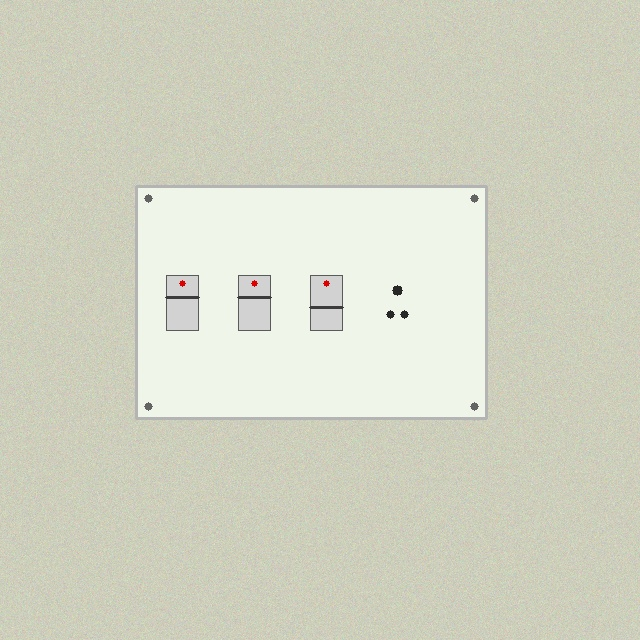switchboard: (136, 186, 486, 418)
